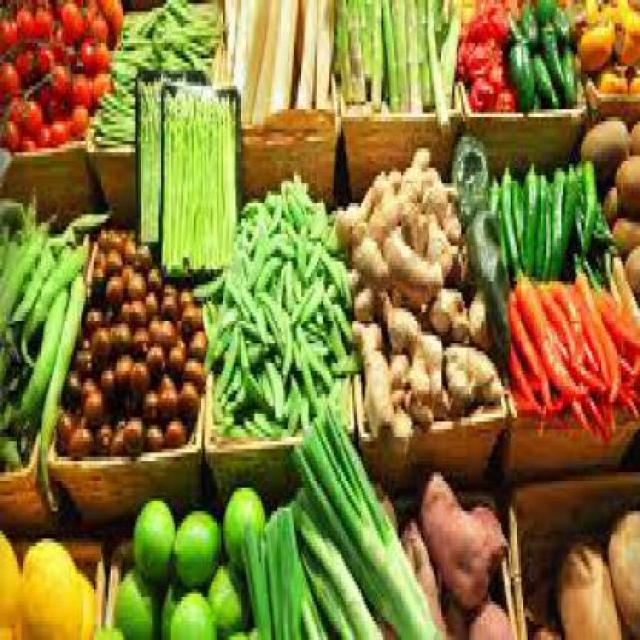BIODEGRADABLE: (289, 406, 434, 636), (289, 488, 382, 637), (414, 460, 508, 605), (162, 78, 233, 265), (35, 268, 83, 512), (540, 280, 603, 438), (16, 239, 90, 363), (2, 284, 67, 422), (512, 270, 582, 398), (502, 285, 561, 418), (0, 211, 63, 335), (202, 297, 261, 429), (138, 71, 184, 234), (552, 527, 620, 636), (241, 512, 294, 636), (223, 272, 299, 356), (380, 292, 442, 394), (18, 535, 80, 636), (277, 504, 323, 636), (399, 507, 446, 636), (573, 273, 619, 398), (244, 363, 324, 429), (238, 176, 294, 266), (388, 328, 438, 426), (353, 316, 392, 441), (0, 183, 35, 320), (388, 304, 438, 398), (442, 336, 503, 410), (606, 507, 639, 636), (152, 23, 222, 82), (221, 479, 265, 570), (384, 226, 438, 300), (172, 503, 220, 586), (232, 0, 266, 117), (129, 492, 171, 586), (429, 277, 486, 343), (204, 554, 248, 637), (502, 339, 547, 418), (577, 110, 628, 179), (6, 242, 52, 316), (233, 324, 272, 410), (112, 562, 157, 636), (450, 128, 485, 222), (466, 198, 499, 297), (550, 272, 584, 363), (318, 296, 357, 375), (592, 284, 638, 350), (567, 281, 602, 367), (348, 215, 386, 292), (418, 164, 457, 238), (426, 210, 466, 282), (436, 0, 462, 106), (266, 0, 292, 106), (363, 164, 399, 238), (288, 168, 324, 242), (89, 82, 134, 141), (312, 0, 337, 106), (248, 0, 270, 117), (395, 180, 428, 257), (0, 527, 23, 636), (165, 586, 212, 636), (398, 137, 436, 198), (292, 0, 314, 102), (600, 288, 638, 347), (111, 38, 163, 78), (578, 15, 613, 74), (488, 172, 509, 270), (404, 0, 422, 114), (390, 0, 408, 114), (333, 180, 365, 242), (286, 277, 320, 335), (423, 0, 440, 114), (212, 324, 238, 398), (558, 160, 576, 266), (414, 0, 432, 106), (378, 0, 396, 106), (500, 161, 517, 273), (454, 31, 498, 74), (540, 15, 565, 90), (525, 578, 557, 636), (344, 0, 362, 102), (529, 38, 557, 102), (467, 597, 511, 637), (508, 30, 532, 101), (578, 156, 594, 262), (368, 0, 384, 106), (332, 0, 349, 98), (295, 336, 328, 386), (612, 0, 638, 63), (164, 0, 222, 28), (612, 152, 638, 214), (472, 0, 512, 40), (56, 203, 113, 231), (612, 352, 638, 413), (320, 245, 348, 301), (296, 222, 322, 281), (608, 207, 638, 258), (548, 156, 561, 273), (121, 0, 164, 35), (521, 156, 534, 270), (260, 352, 282, 418), (531, 172, 544, 278), (438, 589, 467, 636), (62, 362, 86, 418), (9, 0, 37, 48), (488, 266, 506, 340), (75, 566, 94, 636), (78, 0, 110, 40), (296, 344, 315, 410), (54, 0, 85, 40), (461, 8, 496, 43), (172, 374, 198, 421), (89, 324, 111, 379), (62, 417, 92, 457), (544, 175, 556, 274), (467, 66, 496, 106), (514, 0, 538, 48), (0, 424, 28, 464), (152, 370, 175, 418), (511, 172, 523, 262), (44, 54, 71, 94), (158, 581, 176, 636), (93, 0, 121, 35), (558, 39, 574, 98), (162, 332, 184, 374), (351, 278, 375, 316), (158, 410, 184, 445), (118, 414, 144, 449), (594, 62, 626, 90), (113, 355, 132, 402), (175, 296, 202, 329), (223, 0, 235, 74), (80, 296, 102, 336), (0, 58, 18, 106), (357, 0, 369, 71), (482, 54, 503, 94), (579, 0, 615, 23), (34, 0, 54, 40), (84, 382, 102, 426), (145, 312, 173, 340), (190, 270, 225, 292), (623, 245, 639, 293), (98, 362, 114, 410), (600, 179, 615, 230), (129, 354, 148, 394), (71, 332, 89, 374), (67, 98, 85, 140), (80, 39, 108, 66), (105, 268, 123, 308), (0, 7, 15, 55), (183, 328, 209, 355), (144, 344, 162, 382), (550, 0, 569, 35), (113, 320, 132, 355), (90, 66, 108, 102), (51, 406, 67, 446), (88, 249, 110, 277), (23, 94, 40, 129), (182, 355, 204, 382), (30, 116, 48, 149), (36, 39, 52, 75), (132, 324, 148, 359), (90, 621, 125, 636), (121, 226, 133, 269), (71, 70, 89, 98), (15, 47, 33, 75), (494, 82, 512, 109), (108, 222, 125, 250), (136, 241, 150, 274), (125, 262, 142, 289), (107, 417, 121, 449), (156, 290, 175, 312), (4, 94, 19, 121), (116, 292, 130, 320), (221, 624, 253, 636), (94, 417, 106, 449), (144, 426, 161, 448), (1, 117, 17, 140), (46, 117, 62, 140), (141, 290, 157, 312), (628, 117, 638, 152), (17, 128, 34, 148), (127, 292, 139, 320), (144, 258, 156, 285), (107, 250, 121, 273), (533, 0, 554, 15), (177, 281, 188, 308), (625, 70, 638, 90), (158, 278, 172, 296), (95, 227, 106, 245)
